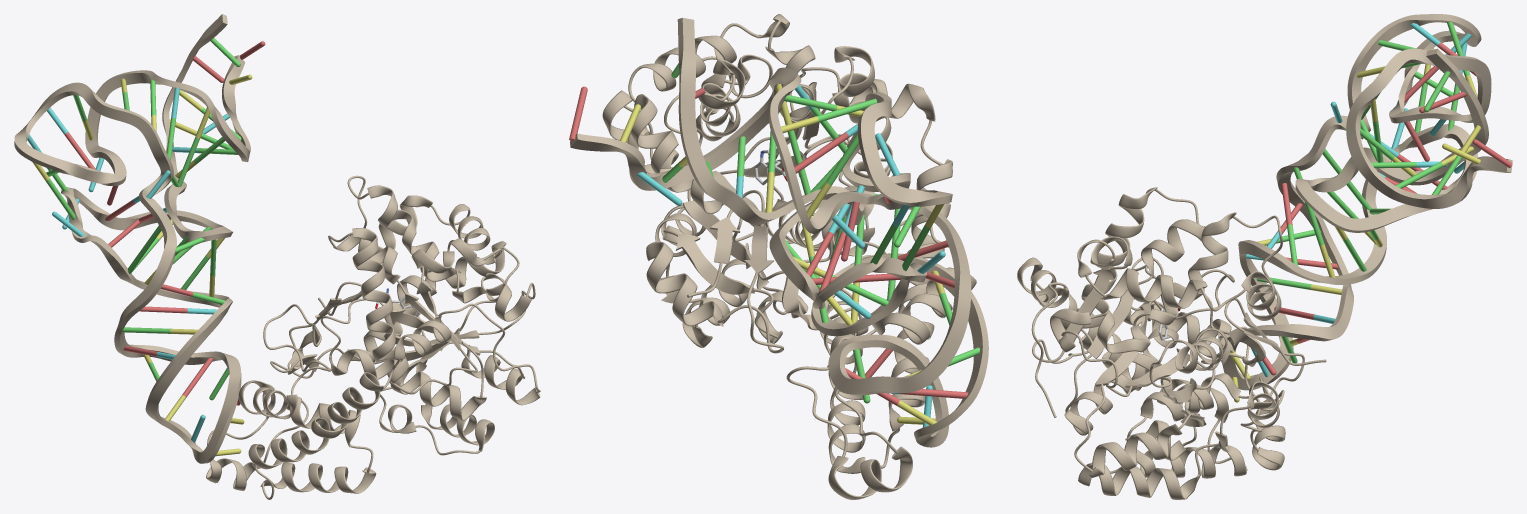
The model's file is trna_synthetase-trna_complex__bound_tryptophan.glb.
3 renders of one model, left to right at view 1: azimuth 30°, elevation 25°; view 2: azimuth 150°, elevation 25°; view 3: azimuth 270°, elevation 25°, orthographic. The views are drawn at different scales.
Visible parts, largest first — view 1: ribbons_4, nucleotides_3; view 2: ribbons_4, nucleotides_3; view 3: ribbons_4, nucleotides_3.
Part boxes in pixels (x1,y1,x2,y2): ribbons_4: (14, 14, 540, 499); nucleotides_3: (27, 38, 265, 456); ribbons_4: (570, 14, 988, 499); nucleotides_3: (569, 63, 979, 427); ribbons_4: (1017, 14, 1512, 499); nucleotides_3: (1229, 22, 1512, 402).
Size of the model in its own units: 1.18 by 1.23 by 1.22.
